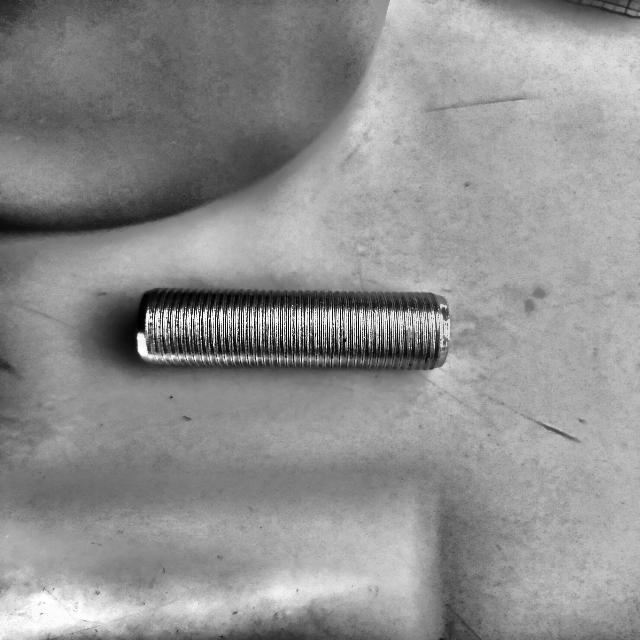Broken: (137, 287, 450, 372)
